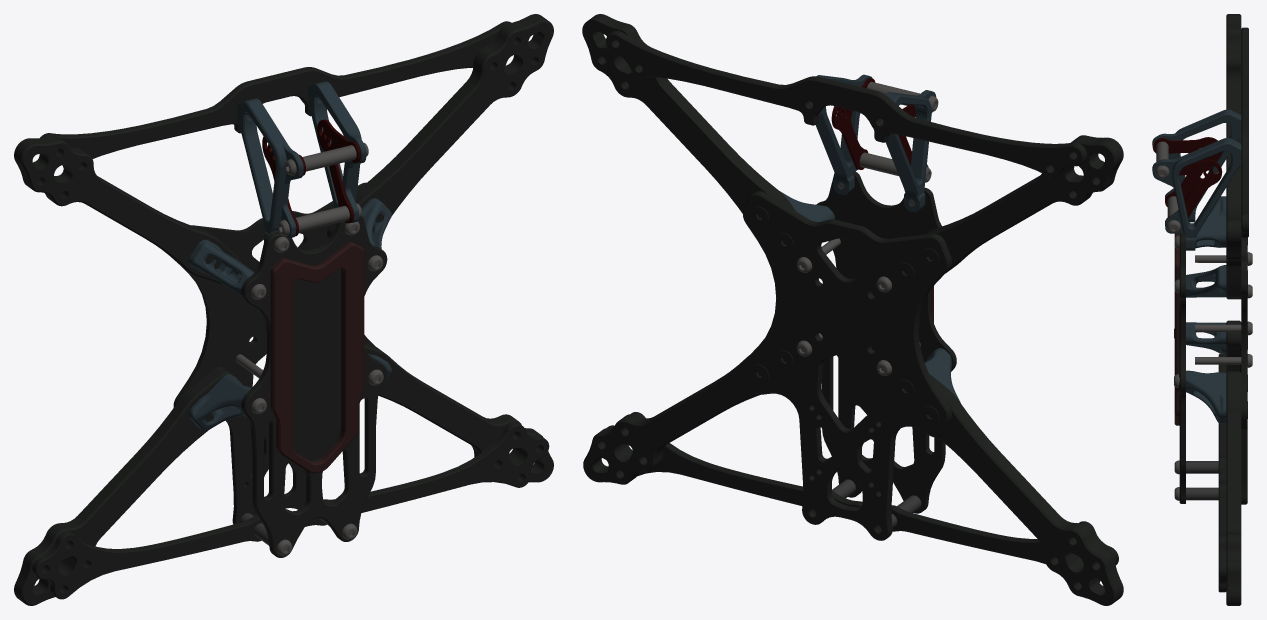
The model's file is fpv_chasis_6_350gms.glb.
3 renders of one model, left to right at view 1: azimuth 30°, elevation 25°; view 2: azimuth 150°, elevation 25°; view 3: azimuth 270°, elevation 25°, orthographic. The views are drawn at different scales.
Parts seen in each view (by area): view 1: Body14.001, Body16.001, Body17.001, Body13.001, Body19.001, Body15.001, Body21.001, Body20.001, Body18.001, Body22, Body21, Body2.001 (+5 smaller); view 2: Body17.001, Body15.001, Body14.001, Body20.001, Body19.001, Body18.001, Body21.001, Body16.001, Body22, Body21, Body19, Body2.001; view 3: Body18.001, Body21, Body21.001, Body14.001, Body17.001, Body15.001, Body16.001, Body22, Body1.001, Body19.001, Body19, Body4.001 (+13 smaller).
Boxes of the visible parts, x1,y1,x2,y2 form: Body14.001: [241, 215, 387, 557]; Body16.001: [32, 422, 549, 599]; Body17.001: [173, 182, 375, 524]; Body13.001: [270, 242, 364, 473]; Body19.001: [327, 14, 553, 238]; Body15.001: [40, 21, 511, 158]; Body21.001: [14, 135, 239, 283]; Body20.001: [14, 367, 233, 605]; Body18.001: [364, 342, 553, 482]; Body22: [237, 98, 303, 241]; Body21: [308, 81, 366, 226]; Body2.001: [189, 374, 251, 431]; Body17.001: [743, 191, 951, 540]; Body15.001: [606, 30, 1087, 178]; Body14.001: [816, 171, 956, 513]; Body20.001: [929, 373, 1123, 605]; Body19.001: [582, 14, 795, 213]; Body18.001: [583, 355, 760, 484]; Body21.001: [925, 135, 1123, 273]; Body16.001: [606, 412, 1118, 582]; Body22: [880, 90, 936, 212]; Body21: [809, 74, 872, 194]; Body19: [831, 78, 875, 169]; Body2.001: [924, 348, 960, 402]; Body18.001: [1226, 371, 1241, 605]; Body21: [1152, 138, 1241, 250]; Body21.001: [1226, 14, 1241, 213]; Body14.001: [1179, 233, 1185, 503]; Body17.001: [1241, 237, 1247, 504]; Body15.001: [1241, 27, 1248, 237]; Body16.001: [1218, 354, 1226, 592]; Body22: [1152, 109, 1241, 222]; Body1.001: [1186, 370, 1226, 423]; Body19.001: [1226, 212, 1241, 299]; Body19: [1166, 159, 1222, 218]; Body4.001: [1195, 196, 1226, 248].
Bounding box in the file's own units: 0.6536 × 0.5413 × 0.1281.
